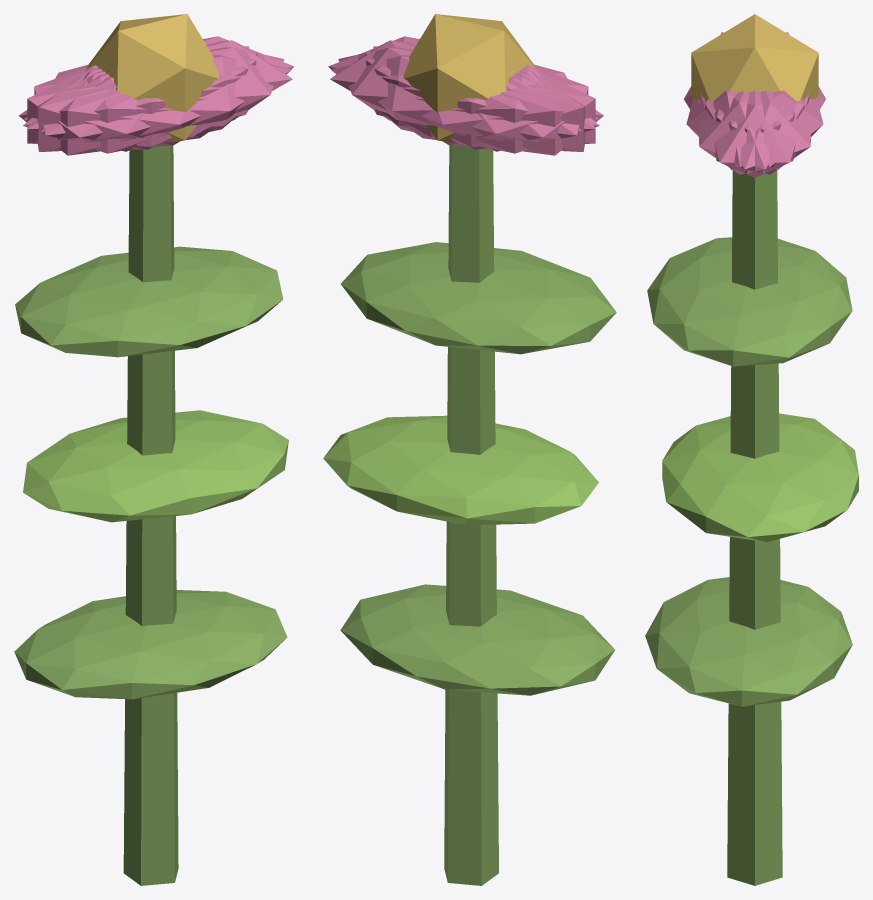
File: murraya-paniculata.glb
The picture shows the model from 3 angles, left to right: view 1: azimuth 30°, elevation 25°; view 2: azimuth 150°, elevation 25°; view 3: azimuth 270°, elevation 25°; orthographic projection.
Parts seen in each view (by area): view 1: stem, leaf2, leaf0, leaf1, center, petal1, petal6, petal2, petal5, petal7, petal0, petal4 (+2 smaller); view 2: stem, leaf2, leaf1, leaf0, center, petal8, petal3, petal7, petal4, petal2, petal0, petal5 (+2 smaller); view 3: stem, leaf2, leaf1, leaf0, center, petal0, petal4, petal5, petal1, petal8.
Boxes of the visible parts, x1,y1,x2,y2 form: stem: (123,145,178,885); leaf2: (15,246,283,357); leaf0: (14,590,287,699); leaf1: (23,410,288,522); center: (86,14,218,142); petal1: (23,55,291,153); petal6: (18,67,213,155); petal2: (37,46,249,151); petal5: (41,47,284,146); petal7: (27,52,257,149); petal0: (86,40,292,137); petal4: (24,36,294,129); stem: (444,145,498,885); leaf2: (341,242,616,354); leaf1: (323,415,598,525); leaf0: (340,584,614,695); center: (403,14,535,142); petal8: (330,55,599,153); petal3: (409,67,603,155); petal7: (373,46,585,151); petal4: (338,47,581,146); petal2: (365,52,595,149); petal0: (330,40,536,137); petal5: (328,36,598,129); stem: (727,170,782,885); leaf2: (647,237,852,366); leaf1: (662,413,858,542); leaf0: (645,577,852,706); center: (691,14,818,101); petal0: (700,91,809,177); petal4: (705,91,811,174); petal5: (698,91,804,174); petal1: (686,90,795,166); petal8: (714,90,823,166).
Bounding box in the file's own units: 0.1452 × 0.4465 × 0.1026.
